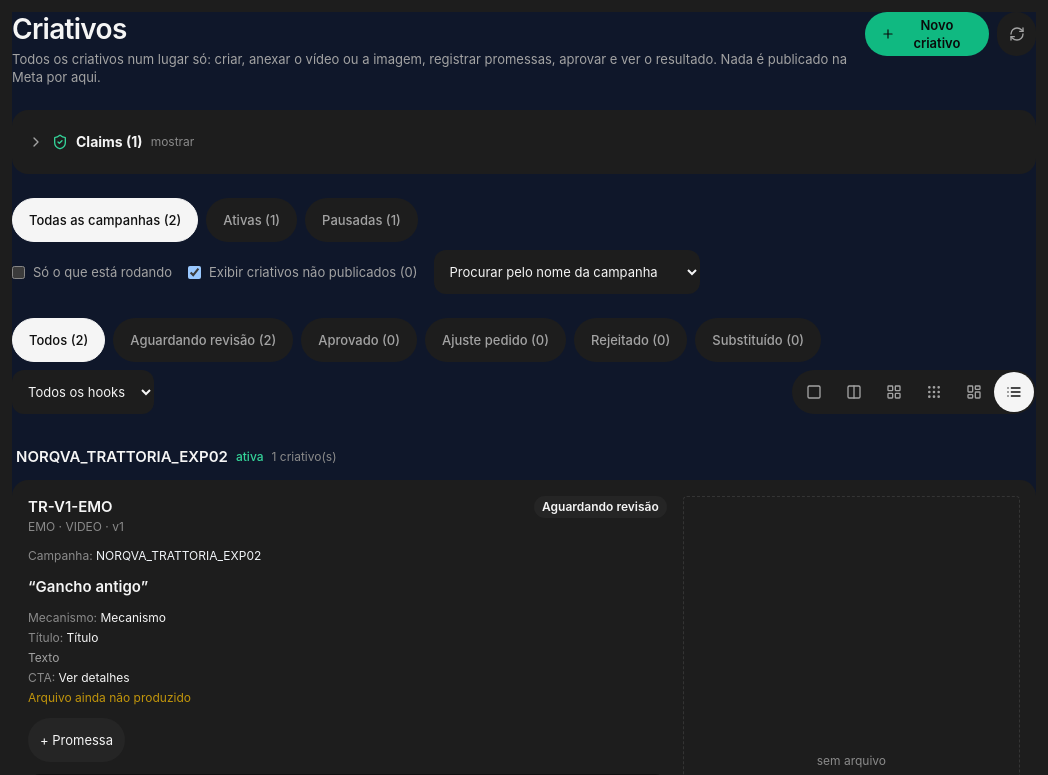
Test: NORQVA-0058 — tela Criativos › claims começam ocultas e abrem no clique
This screenshot has width=1048, height=775.
Expected: the text "Foto de cada prato" is not shown
Click the button with test id "toggle-factory-claims" at (111, 142), box [28,120,194,164]
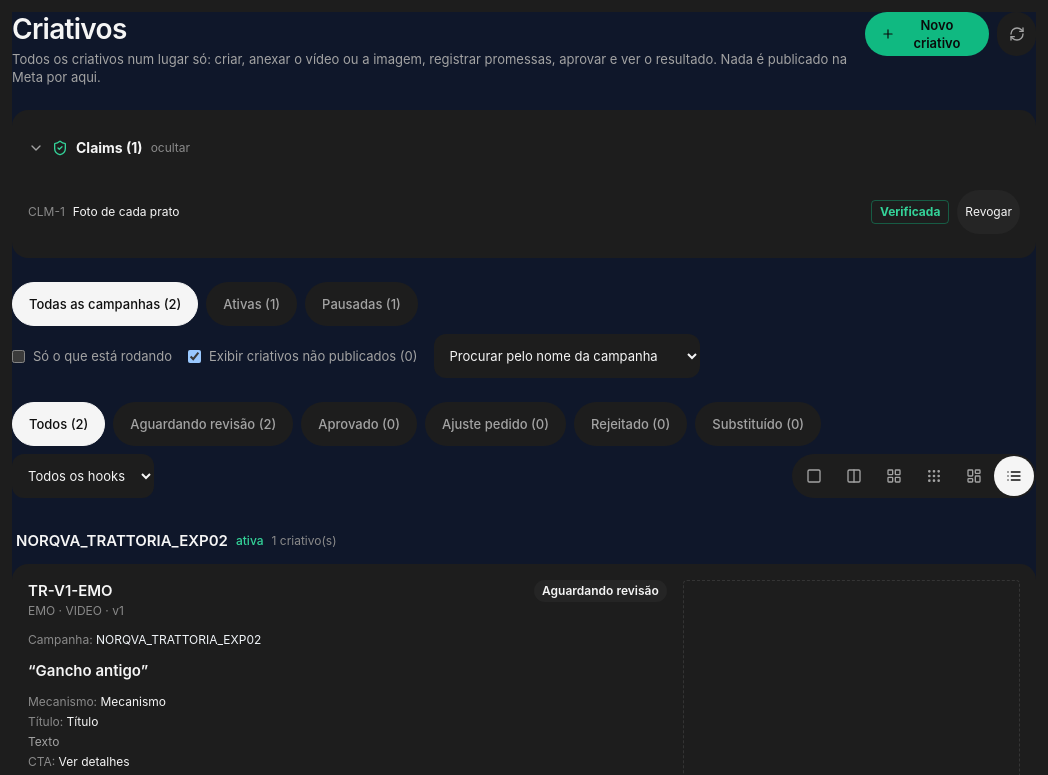
Expected: the text "Foto de cada prato" is shown, [73,204,180,219]
